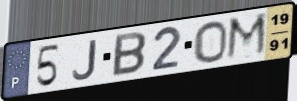2: (151, 24, 184, 73)
5: (35, 42, 61, 88)
B: (110, 30, 148, 79)
J: (71, 38, 98, 81)
M: (224, 10, 270, 63)
O: (192, 20, 229, 65)
